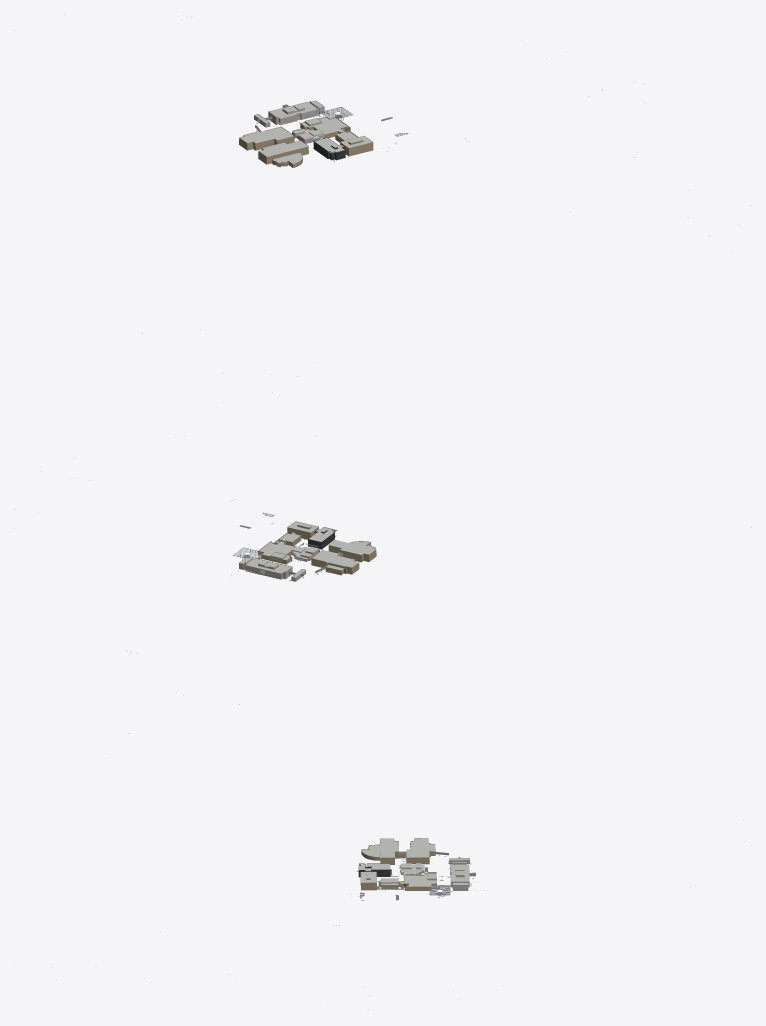
3 views of the same model, one above another, from view 1: azimuth 30°, elevation 25°; view 2: azimuth 150°, elevation 25°; view 3: azimuth 270°, elevation 25° (orthographic). The views are drawn at different scales.
Parts seen in each view (by area): view 1: D-0-0.L1:utd:matte:flat, D-0-0.L1:utd:metal:flat; view 2: D-0-0.L1:utd:matte:flat, D-0-0.L1:utd:metal:flat; view 3: D-0-0.L1:utd:matte:flat, D-0-0.L1:utd:metal:flat.
Boxes of the visible parts, bbox=[...] form: D-0-0.L1:utd:matte:flat: bbox=[14, 14, 751, 333]; D-0-0.L1:utd:metal:flat: bbox=[255, 104, 408, 160]; D-0-0.L1:utd:matte:flat: bbox=[14, 362, 751, 704]; D-0-0.L1:utd:metal:flat: bbox=[233, 512, 342, 577]; D-0-0.L1:utd:matte:flat: bbox=[14, 733, 751, 1011]; D-0-0.L1:utd:metal:flat: bbox=[358, 852, 475, 900].
Bounding box in the file's own units: 1438 × 28.1 × 1596.
